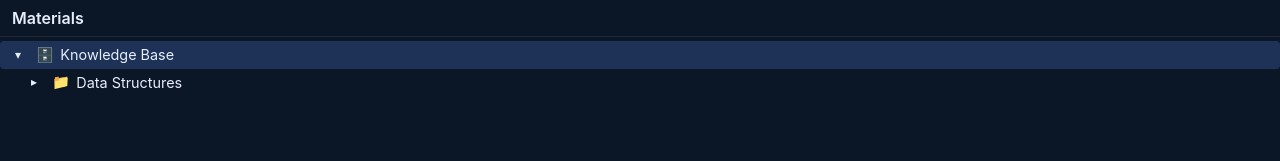
MaterialsApp tree view › collapsing a folder hides its children again
Step 1. Click the button with test id "folder-toggle-ds" → (34, 82), box [24,72,44,92]
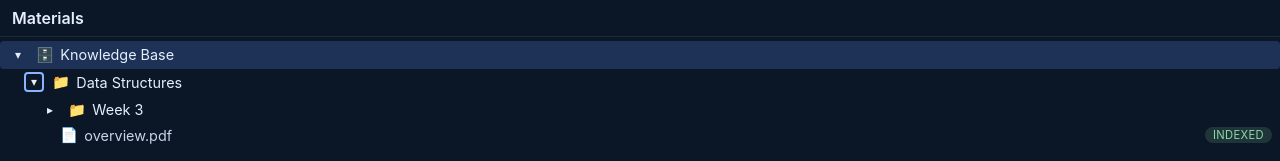
expect the list item with test id "folder-w3" is shown: met, box [0,96,1279,124]
Step 2. Click the button with test id "folder-toggle-ds" → (34, 82), box [24,72,44,92]
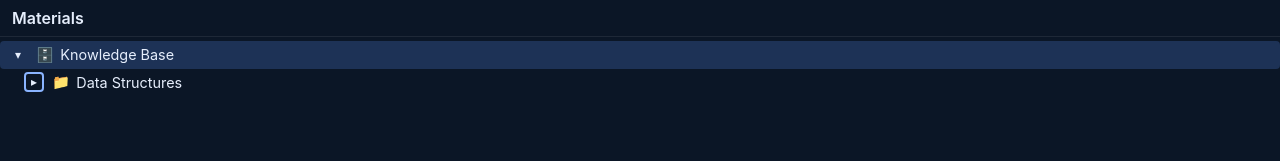
expect the list item with test id "folder-w3" is gone: met
expect the list item with test id "file-f-overview" is gone: met
